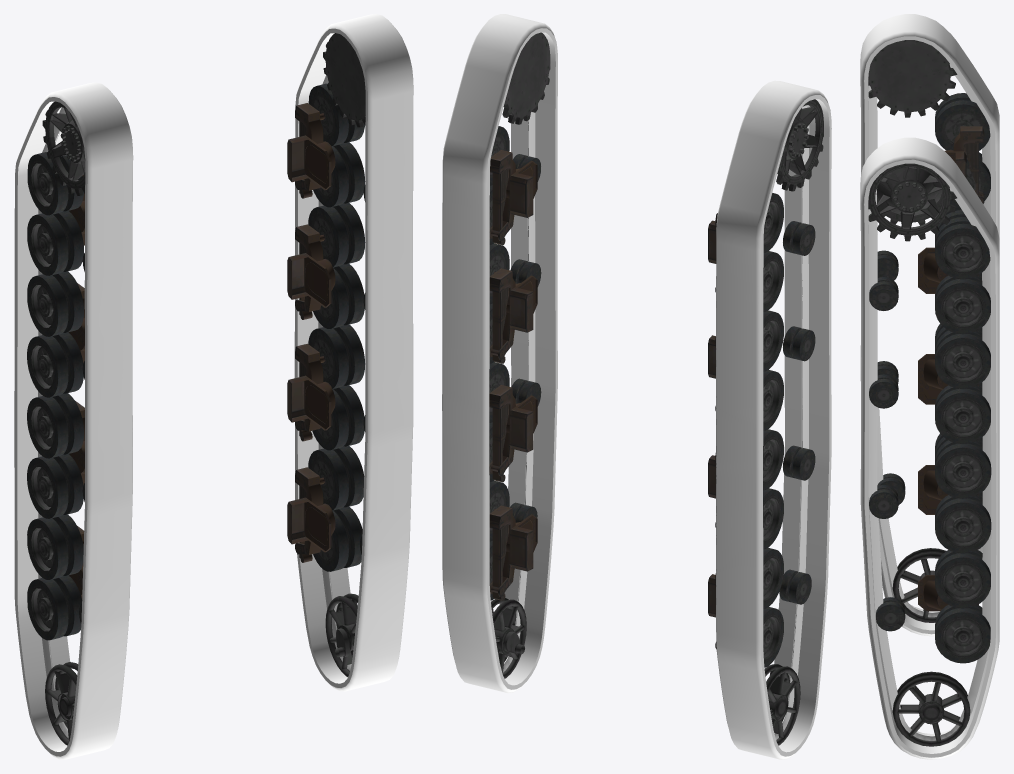
The model's file is Chassis.glb.
3 renders of one model, left to right at view 1: azimuth 30°, elevation 25°; view 2: azimuth 150°, elevation 25°; view 3: azimuth 270°, elevation 25°, orthographic. The views are drawn at different scales.
Parts seen in each view (by area): view 1: set_0_group_0, set_1_group_0, set_3_group_0, set_2_group_0; view 2: set_0_group_0, set_1_group_0, set_3_group_0, set_2_group_0; view 3: set_3_group_0, set_1_group_0, set_2_group_0, set_0_group_0.
Part boxes in pixels (<box>): set_0_group_0: <box>14,82,133,759</box>; set_1_group_0: <box>294,14,413,691</box>; set_3_group_0: <box>287,33,365,676</box>; set_2_group_0: <box>27,101,85,745</box>; set_0_group_0: <box>716,80,831,759</box>; set_1_group_0: <box>442,14,557,692</box>; set_3_group_0: <box>489,32,550,678</box>; set_2_group_0: <box>708,99,823,745</box>; set_3_group_0: <box>868,163,991,746</box>; set_1_group_0: <box>860,137,999,759</box>; set_2_group_0: <box>868,40,990,622</box>; set_0_group_0: <box>860,14,999,636</box>.
Bounding box in the file's own units: 2.84 × 5.58 × 1.16.
Materials: 4 (2 with a texture image).
